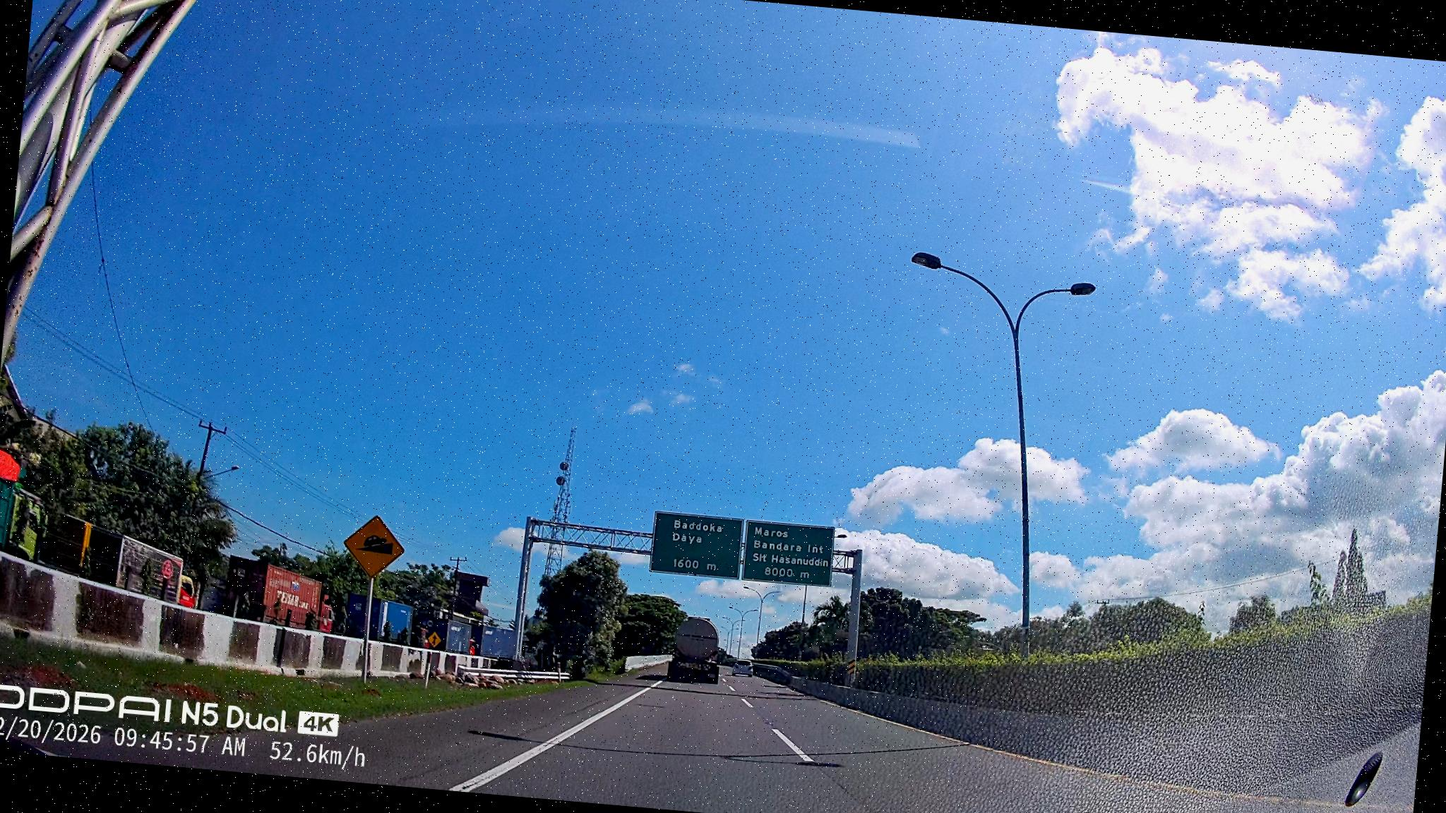rambu_teks: (648, 510, 746, 580), (741, 519, 837, 590)
